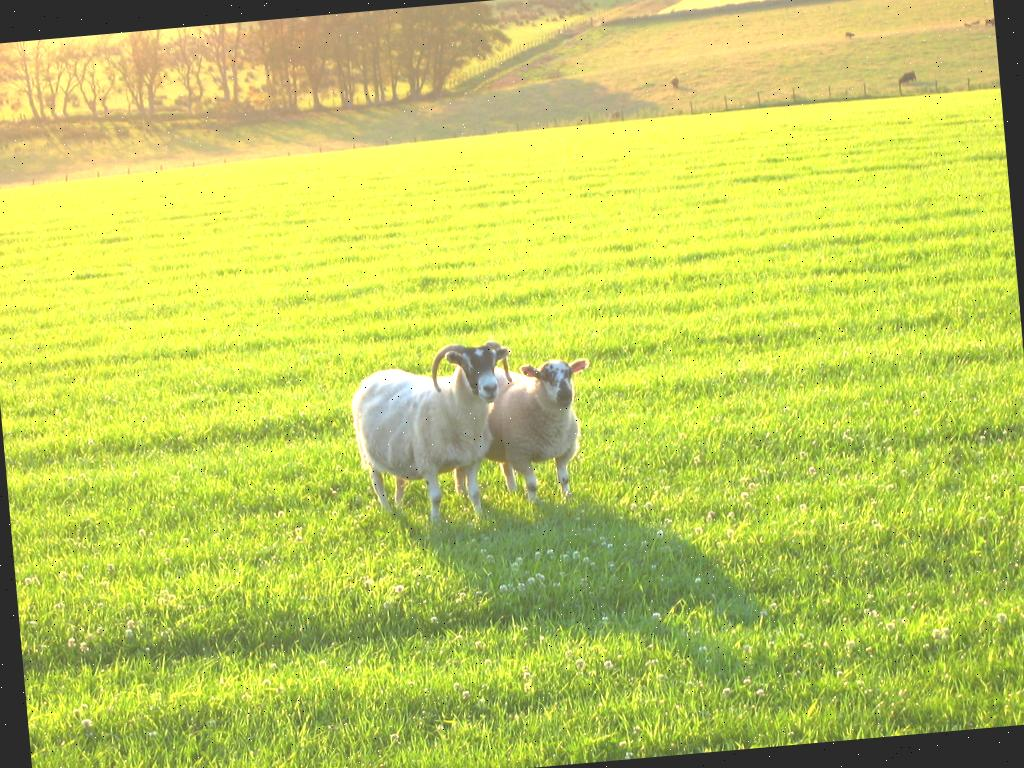Sheep: (346, 336, 526, 531), (482, 358, 600, 502)
